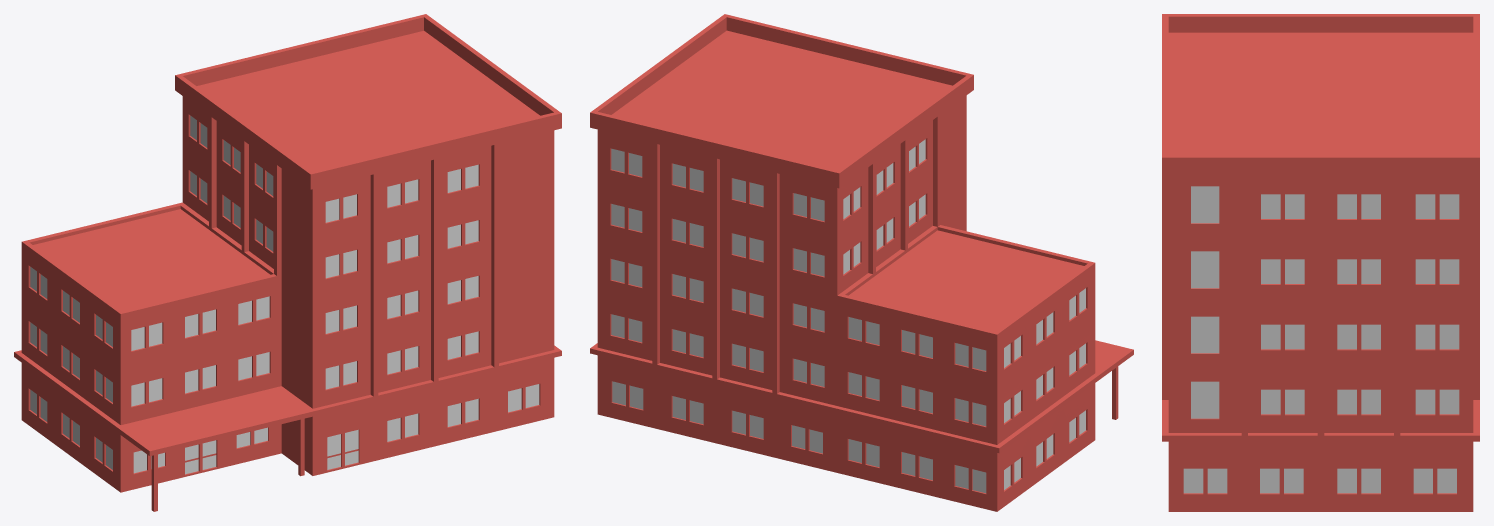
Rendered from building main_3.fbx.
The picture shows the model from 3 angles, left to right: view 1: azimuth 30°, elevation 25°; view 2: azimuth 150°, elevation 25°; view 3: azimuth 270°, elevation 25°; orthographic projection. The views are drawn at different scales.
Parts seen in each view (by area): view 1: building-hospital; view 2: building-hospital; view 3: building-hospital.
Boxes of the visible parts, x1,y1,x2,y2 form: building-hospital: (14, 14, 561, 511); building-hospital: (590, 14, 1133, 511); building-hospital: (1162, 14, 1479, 511).
Bounding box in the file's own units: 2560 × 1810 × 1460.
